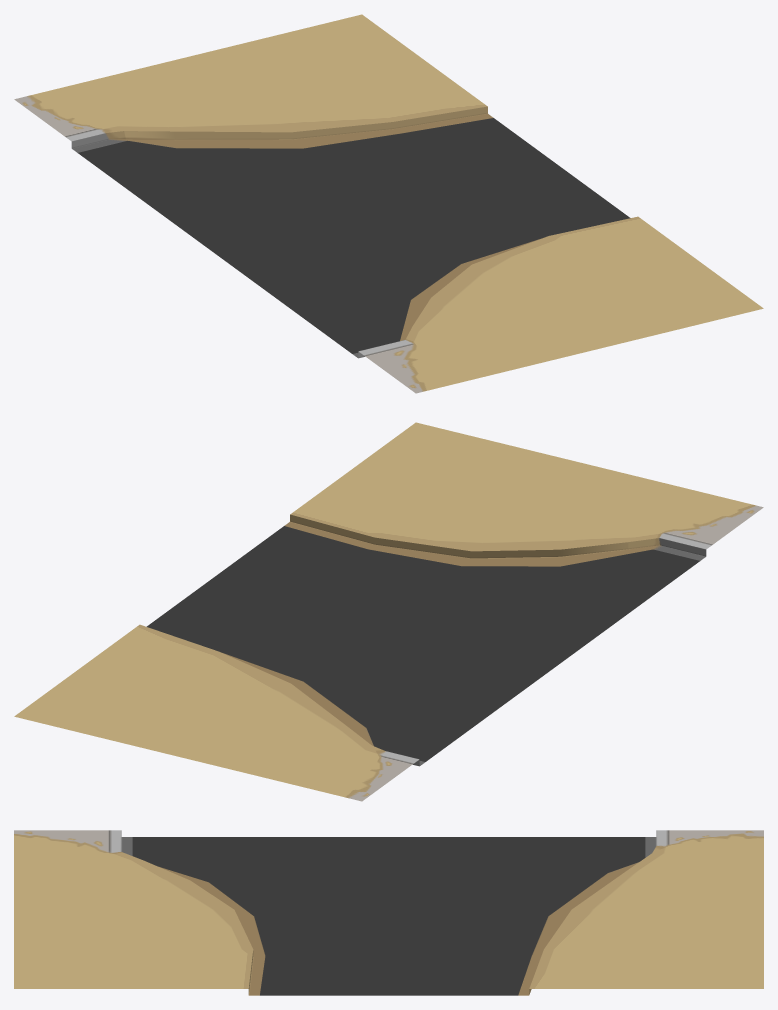
File: SM_Env_Road_Asphalt_Town_Transition_01.fbx
3 views of the same model, one above another, from view 1: azimuth 30°, elevation 25°; view 2: azimuth 150°, elevation 25°; view 3: azimuth 270°, elevation 25° (orthographic). The views are drawn at different scales.
Visible parts, largest first — view 1: SM_Env_Road_Asphalt_Town_Transition_01; view 2: SM_Env_Road_Asphalt_Town_Transition_01; view 3: SM_Env_Road_Asphalt_Town_Transition_01.
Part boxes in pixels (box(x1,y1,x2,y2)): SM_Env_Road_Asphalt_Town_Transition_01: box(14, 14, 763, 393); SM_Env_Road_Asphalt_Town_Transition_01: box(14, 422, 763, 801); SM_Env_Road_Asphalt_Town_Transition_01: box(14, 830, 763, 995).
Bounding box in the file's own units: 10 × 0.1948 × 20.
